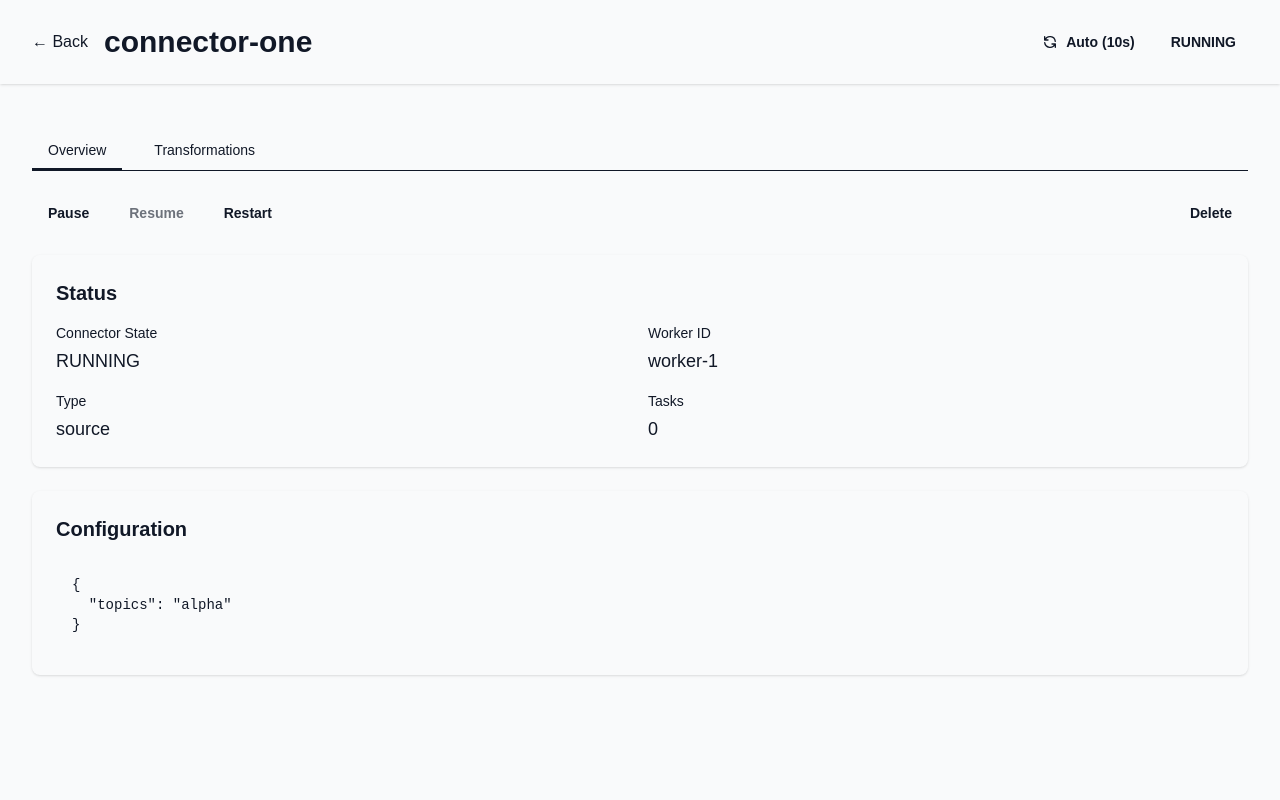
it: ConnectorDetail page › disables all action buttons when any action is in progress
Expected: the text "Connector State" is shown, [56,325,157,341]
Expected: the button "Restart" is enabled, [208,195,288,231]
Click pause - should disable all buttons
Click the button "Pause" at (69, 213), box [32,195,105,231]
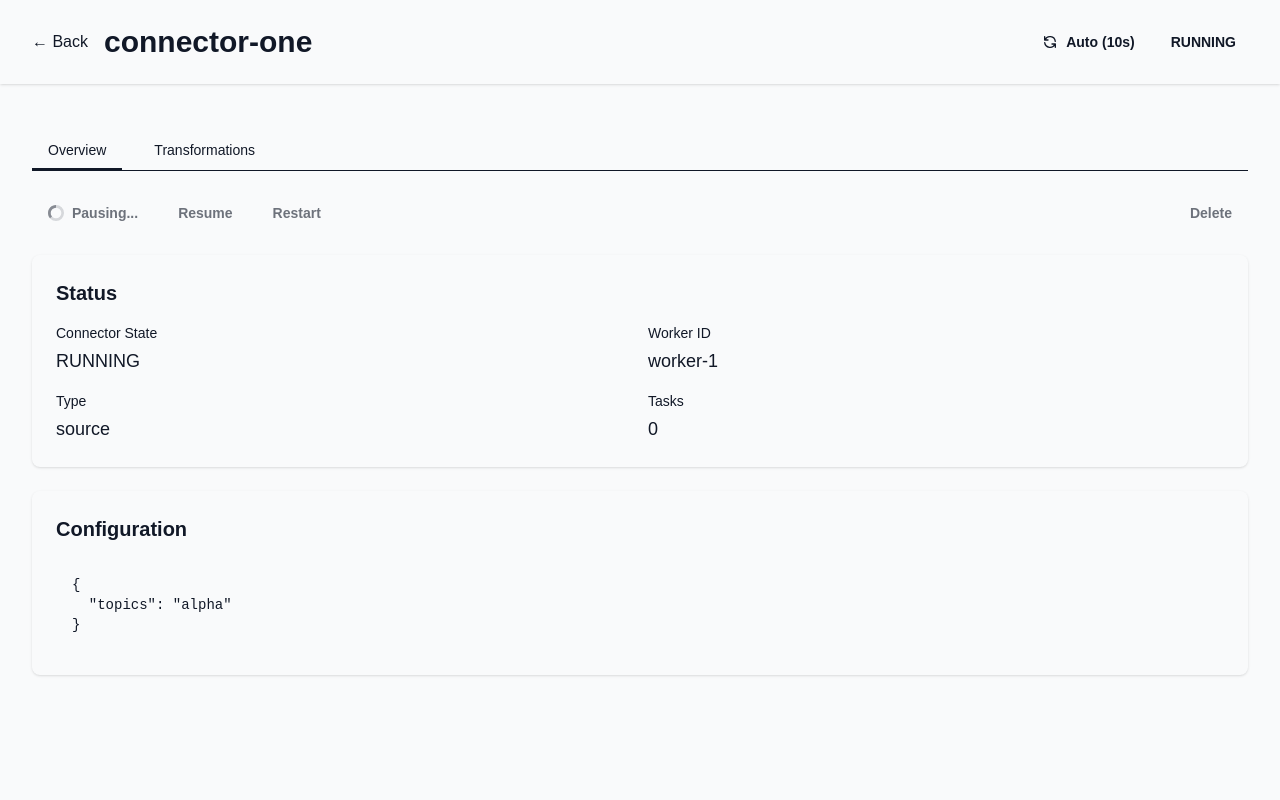
Now the text "Pausing..." is shown, box [72,203,138,223]
Now the button named "Pause" is disabled, box [32,195,154,231]
Now the button "Restart" is disabled, box [257,195,337,231]
